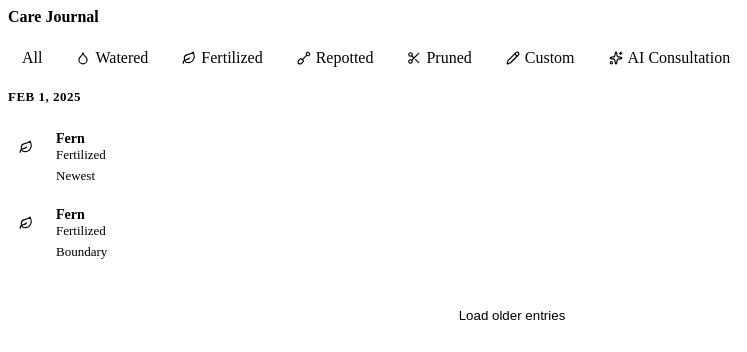
Scenario: care journal history loading › manually loads older entries without document overflow using the last raw event ID
This screenshot has width=747, height=352.
Click the button "Load older entries": x=512, y=316 [445,296,579,336]
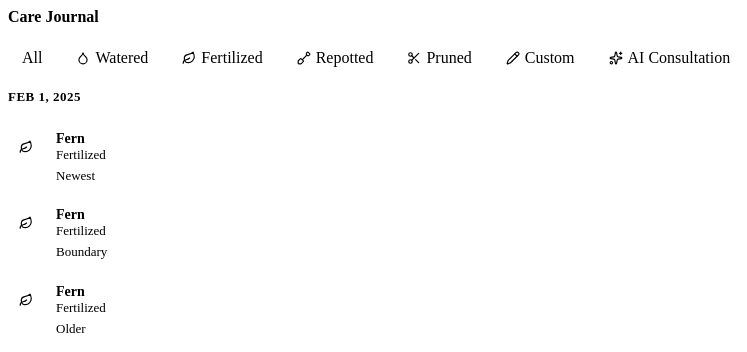
Expected: the button "Load older entries" is gone
